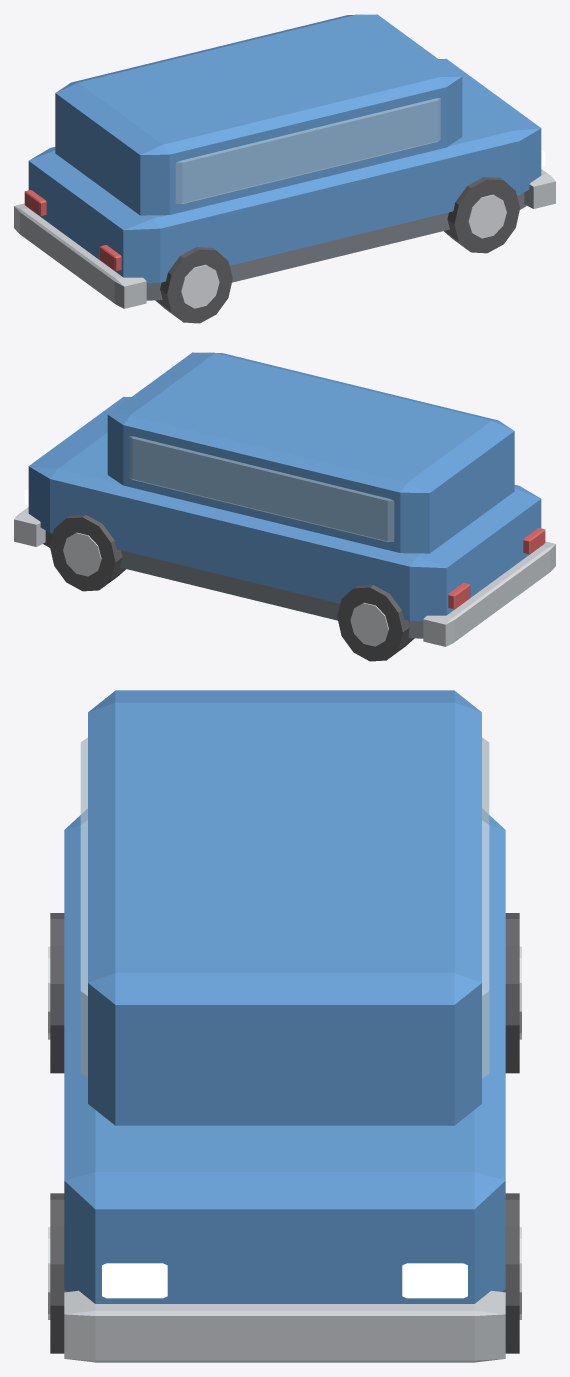
The model's file is b03_sport_coupe_crossover.glb.
3 views of the same model, one above another, from view 1: azimuth 30°, elevation 25°; view 2: azimuth 150°, elevation 25°; view 3: azimuth 270°, elevation 25° (orthographic). The views are drawn at different scales.
Parts seen in each view (by area): view 1: b03_sport_coupe_crossover; view 2: b03_sport_coupe_crossover; view 3: b03_sport_coupe_crossover.
Part boxes in pixels (x1=…): b03_sport_coupe_crossover: x1=14, y1=14, x2=555, y2=323; b03_sport_coupe_crossover: x1=14, y1=352, x2=555, y2=661; b03_sport_coupe_crossover: x1=48, y1=690, x2=521, y2=1362.
Bounding box in the file's own units: 5.02 × 1.9 × 2.37.
